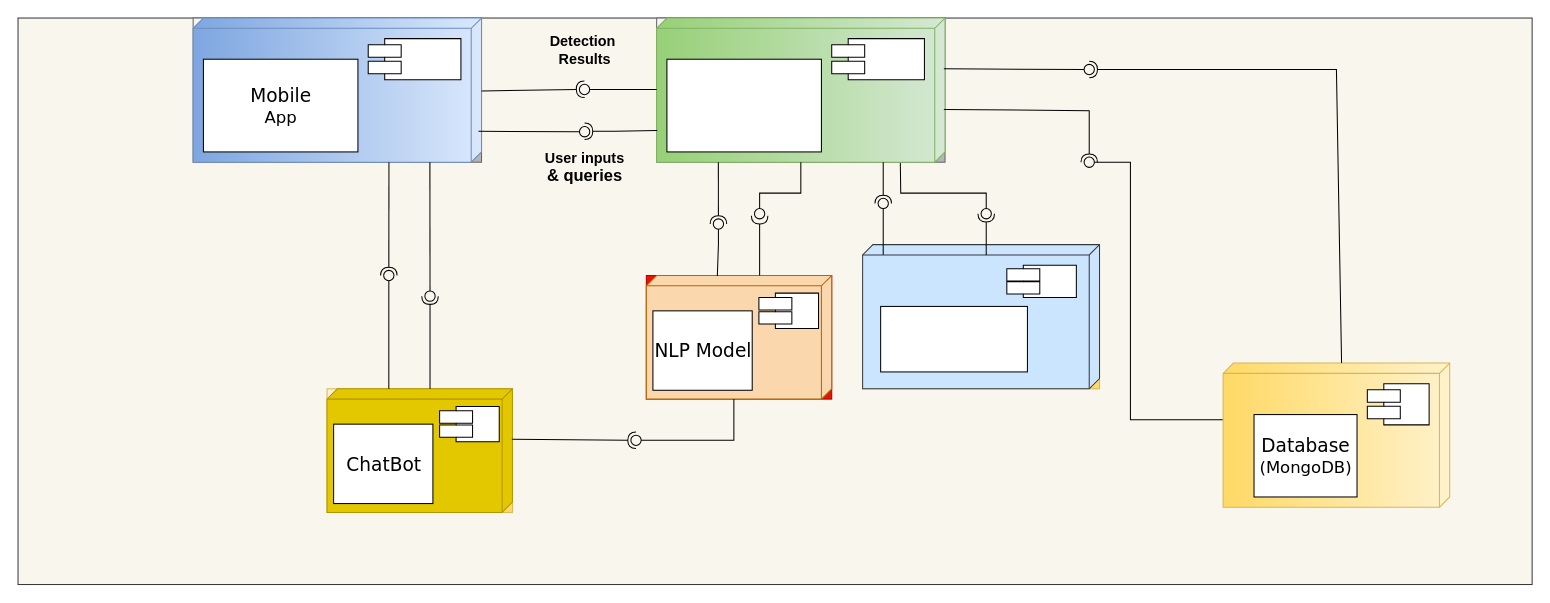
Some shapes in this 1550 by 603 pixel diagram are drawn without their labels. The box of each missing label's shape, as (x1, y1, x2, y2) in pixels:
Backend: (666, 58, 821, 152)
DL model (Inception V3 & mobilenetV2: (880, 305, 1027, 372)
